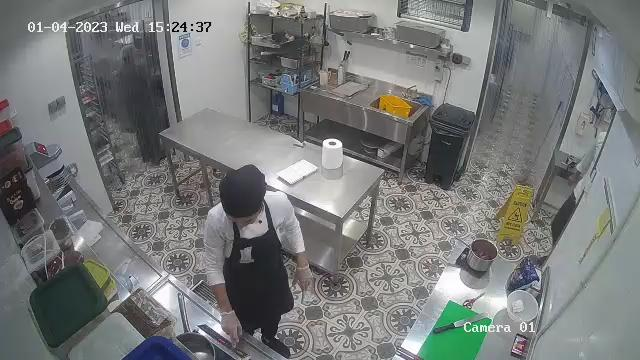apron: (217, 195, 299, 331)
